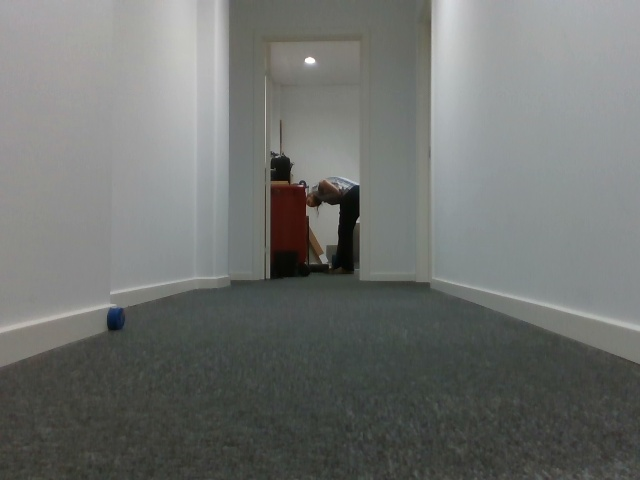alfa: (105, 305, 125, 331)
